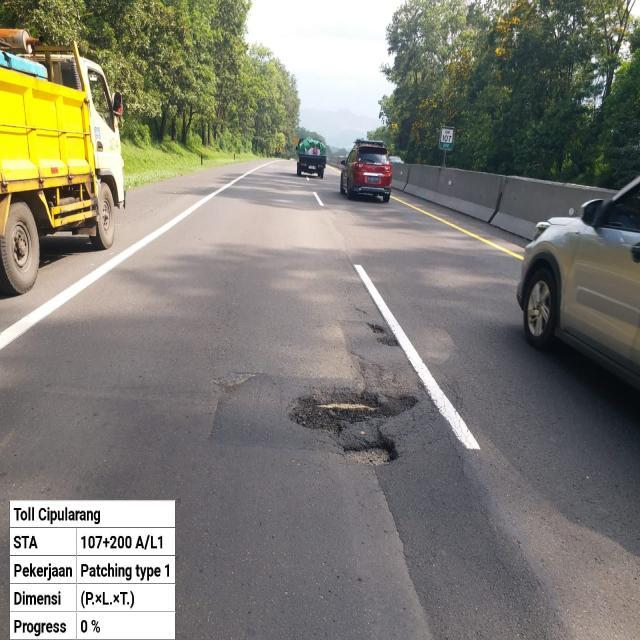Buraco: (281, 380, 424, 470), (363, 320, 402, 348)
